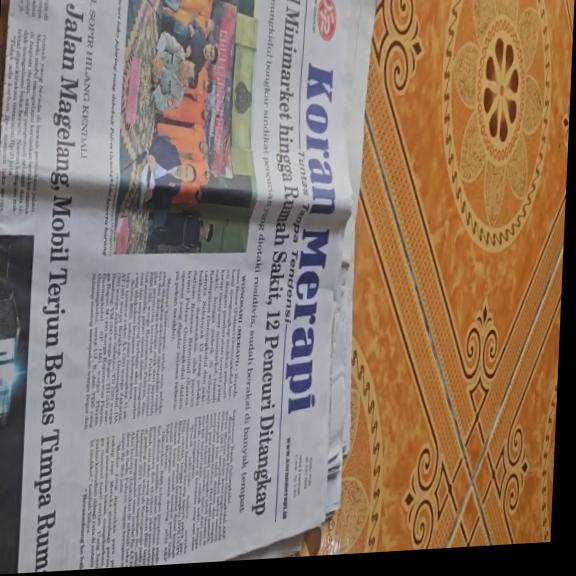Kertas: (0, 0, 378, 576)
